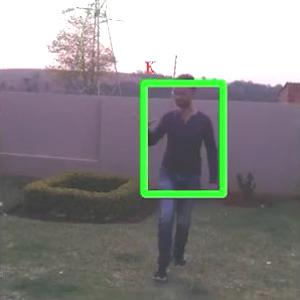follow_hand: (130, 102, 161, 128)
